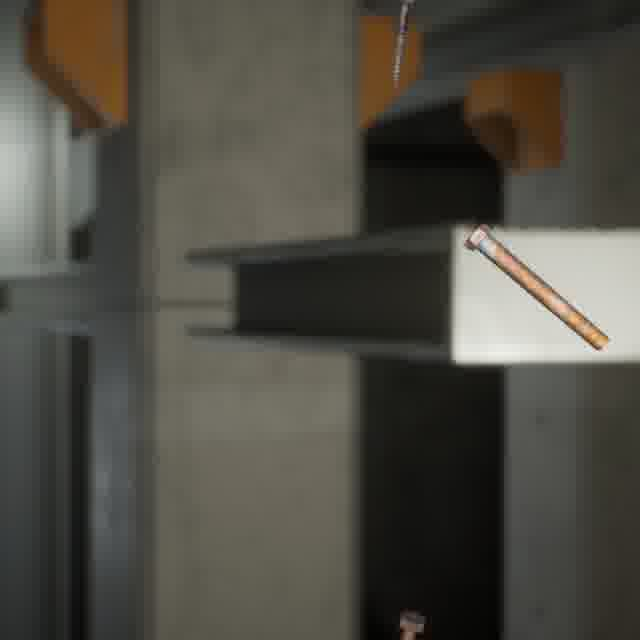bolt: (459, 218, 613, 355), (387, 0, 421, 90), (394, 606, 430, 640)
